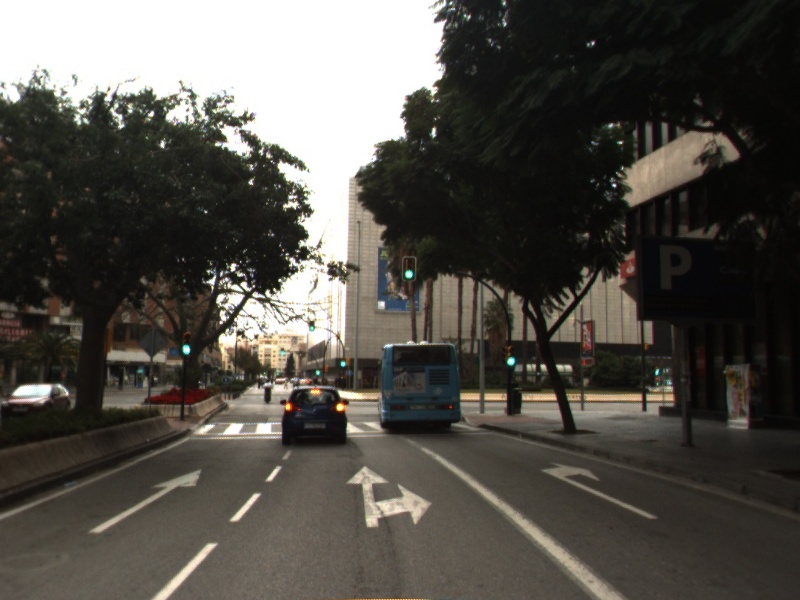RIGHT: (539, 460, 662, 522)
STRAIGHT: (86, 467, 204, 536)
STRAIGHT_RIGHT: (343, 463, 435, 530)
